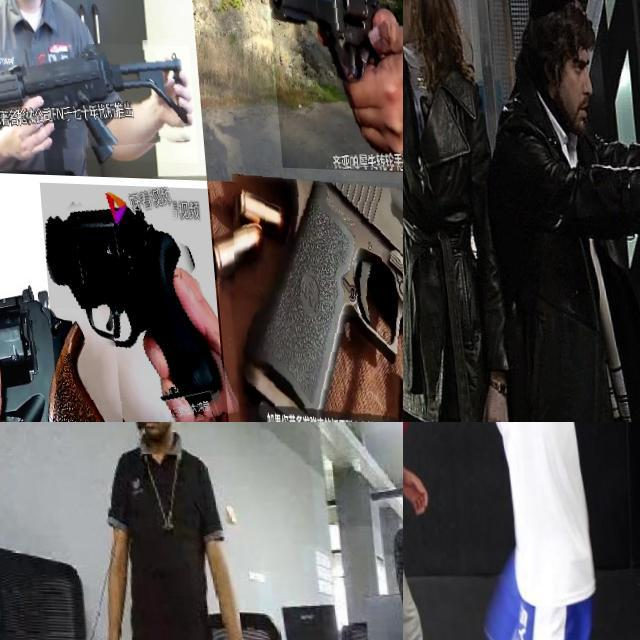-: (403, 422, 441, 474)
gun-knife-thesis - v11 Yolov5 augmented: (215, 173, 403, 422), (34, 181, 220, 422), (0, 35, 193, 161), (262, 0, 403, 168), (0, 302, 117, 422), (403, 0, 434, 63)
